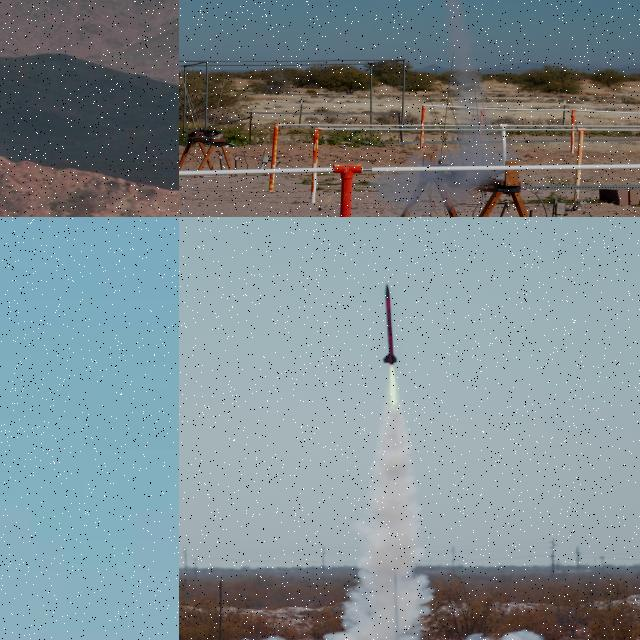Rocket: (382, 282, 397, 366)
